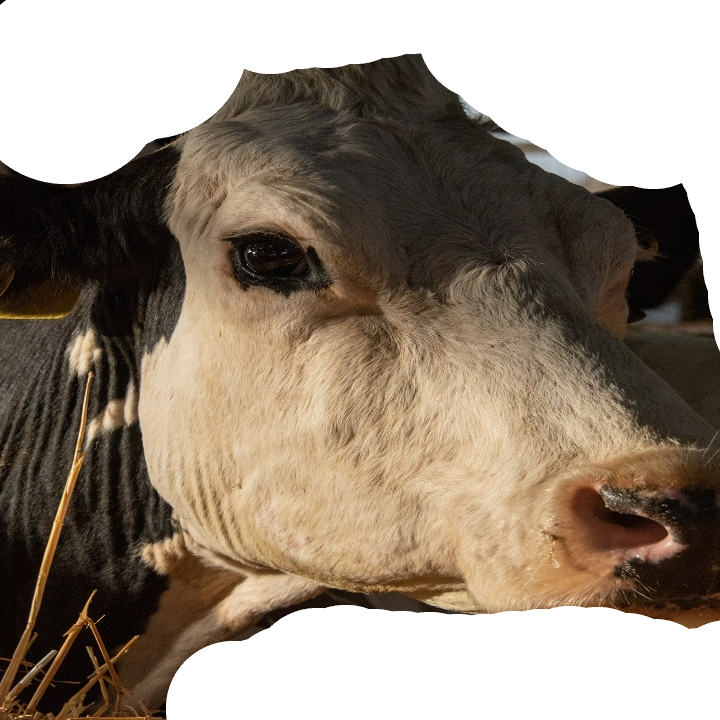Cow: (3, 56, 719, 719)
